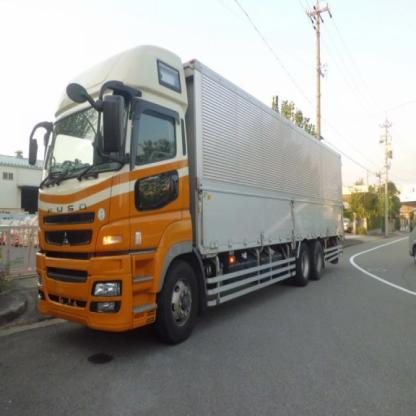truck: (27, 43, 344, 344)
